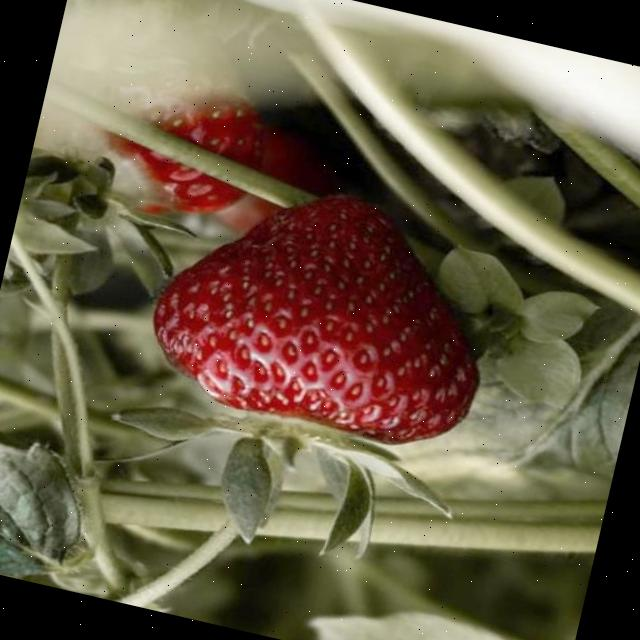strawberry: (135, 161, 511, 461)
